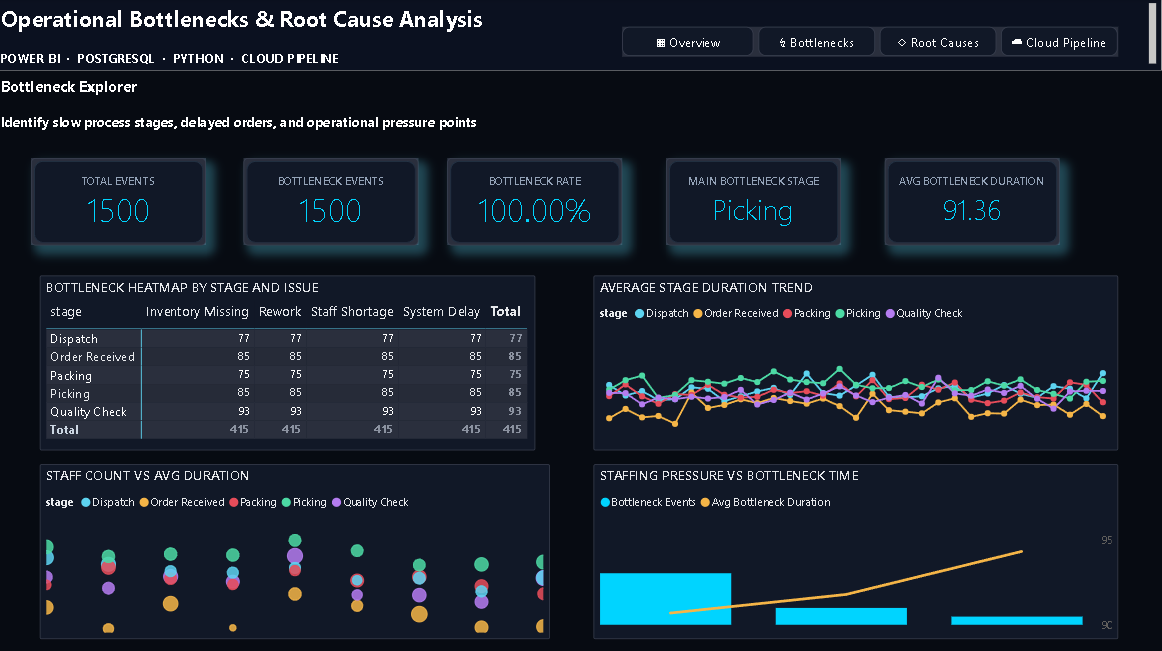

The dashboard page shown, as its layout file describes it:
{"tool":"powerbi","page":{"name":"↯ Bottleneck Explorer","canvas":[1280,720],"ordinal":1},"visuals":[{"type":"textbox","box":[0,0,1280,80],"z":0,"group":"g1"},{"type":"actionButton","box":[720,32,112,32],"z":0},{"type":"actionButton","box":[848,32,112,32],"z":1000},{"type":"textbox","box":[0,80,1280,80],"z":1000,"group":"g1"},{"type":"actionButton","box":[688,32,144,32],"z":2000,"group":"g9"},{"type":"actionButton","box":[976,32,112,32],"z":2000},{"type":"actionButton","box":[837.3,32,128,32],"z":3000,"group":"g9"},{"type":"actionButton","box":[1104,32,112,32],"z":3000},{"type":"group","id":"g1","title":"Group 1","box":[0,0,1280,160],"z":4000},{"type":"actionButton","box":[1104,32,128,32],"z":4000,"group":"g9"},{"type":"actionButton","box":[970.7,32,128,32],"z":5000,"group":"g9"},{"type":"group","id":"g2","title":"Group 1","box":[38.8,176,192,96],"z":5000},{"type":"group","id":"g3","title":"Group 2","box":[736,176,192,96],"z":6000},{"type":"shape","box":[38.8,176,192,96],"z":7000,"group":"g11"},{"type":"shape","box":[272,176,192,96],"z":7000,"group":"g5"},{"type":"group","id":"g4","title":"Group 2","box":[496,176,192,96],"z":7000},{"type":"shape","box":[496,176,192,96],"z":7000,"group":"g4"},{"type":"shape","box":[736,176,192,96],"z":7000,"group":"g8"},{"type":"shape","box":[976,176,192,96],"z":7000,"group":"g7"},{"type":"card","title":"TOTAL EVENTS","fields":{"Values":["_Measures.Total Order Events"]},"box":[38.8,192,192,64],"z":7005,"group":"g11"},{"type":"card","title":"BOTTLENECK EVENTS","fields":{"Values":["_Measures.Bottleneck Events"]},"box":[272,192,192,64],"z":7005,"group":"g5"},{"type":"card","title":"BOTTLENECK RATE","fields":{"Values":["_Measures.Bottleneck Rate"]},"box":[496,192,192,64],"z":7005,"group":"g4"},{"type":"card","title":"MAIN BOTTLENECK STAGE","fields":{"Values":["_Measures.Main Bottleneck Stage"]},"box":[736,192,192,64],"z":7005,"group":"g8"},{"type":"card","title":"AVG BOTTLENECK DURATION","fields":{"Values":["_Measures.Avg Bottleneck Duration"]},"box":[976,192,192,64],"z":7005,"group":"g7"},{"type":"group","id":"g5","title":"Group 2","box":[272,176,192,96],"z":8000},{"type":"pivotTable","title":"BOTTLENECK HEATMAP BY STAGE AND ISSUE","fields":{"Rows":["order_events.stage"],"Columns":["order_events.issue_type"],"Values":["order_events.Issue Event Count"]},"box":[48,304,544,192],"z":9000},{"type":"group","id":"g6","title":"Group 2","box":[38.8,176,192,96],"z":9001,"group":"g10"},{"type":"lineChart","title":"AVERAGE STAGE DURATION TREND","fields":{"Category":["Date Table.Date"],"Y":["_Measures.Avg Stage Duration"],"Series":["order_events.stage"]},"box":[656,304,576,192],"z":10000},{"type":"scatterChart","title":"STAFF COUNT VS AVG DURATION","fields":{"X":["orders.staff_count"],"Y":["_Measures.Avg Stage Duration"],"Series":["order_events.stage"],"Size":["order_events.Issue Event Count"]},"box":[48,512,560,192],"z":11000},{"type":"group","id":"g7","title":"Group 4","box":[976,176,192,96],"z":12000},{"type":"group","id":"g8","title":"Group 4","box":[736,176,192,96],"z":12004,"group":"g3"},{"type":"lineClusteredColumnComboChart","title":"STAFFING PRESSURE VS BOTTLENECK TIME","fields":{"Category":["orders.Staff Count Group"],"Y":["_Measures.Bottleneck Events"],"Y2":["_Measures.Avg Bottleneck Duration"]},"box":[656,512,576,192],"z":13000},{"type":"group","id":"g9","title":"Group 4","box":[688,32,544,32],"z":14000},{"type":"group","id":"g10","title":"Group 3","box":[38.8,176,192,96],"z":15001,"group":"g2"},{"type":"group","id":"g11","title":"Group 5","box":[38.8,176,192,96],"z":18001,"group":"g6"}]}

Visuals, with their boxes in screenshot pixels (x1, y1, x2, y2), scaled from the page's 1280x720 canvas onto the 1162x651 screenshot:
textbox: <bbox>0, 0, 1161, 72</bbox>
actionButton: <bbox>654, 29, 755, 58</bbox>
actionButton: <bbox>770, 29, 872, 58</bbox>
textbox: <bbox>0, 72, 1161, 145</bbox>
actionButton: <bbox>625, 29, 755, 58</bbox>
actionButton: <bbox>886, 29, 988, 58</bbox>
actionButton: <bbox>760, 29, 876, 58</bbox>
actionButton: <bbox>1002, 29, 1104, 58</bbox>
"Group 1" group: <bbox>0, 0, 1161, 145</bbox>
actionButton: <bbox>1002, 29, 1118, 58</bbox>
actionButton: <bbox>881, 29, 997, 58</bbox>
"Group 1" group: <bbox>35, 159, 210, 246</bbox>
"Group 2" group: <bbox>668, 159, 842, 246</bbox>
shape: <bbox>35, 159, 210, 246</bbox>
shape: <bbox>247, 159, 421, 246</bbox>
"Group 2" group: <bbox>450, 159, 625, 246</bbox>
shape: <bbox>450, 159, 625, 246</bbox>
shape: <bbox>668, 159, 842, 246</bbox>
shape: <bbox>886, 159, 1060, 246</bbox>
"TOTAL EVENTS" card: <bbox>35, 174, 210, 231</bbox>
"BOTTLENECK EVENTS" card: <bbox>247, 174, 421, 231</bbox>
"BOTTLENECK RATE" card: <bbox>450, 174, 625, 231</bbox>
"MAIN BOTTLENECK STAGE" card: <bbox>668, 174, 842, 231</bbox>
"AVG BOTTLENECK DURATION" card: <bbox>886, 174, 1060, 231</bbox>
"Group 2" group: <bbox>247, 159, 421, 246</bbox>
"BOTTLENECK HEATMAP BY STAGE AND ISSUE" pivotTable: <bbox>44, 275, 537, 448</bbox>
"Group 2" group: <bbox>35, 159, 210, 246</bbox>
"AVERAGE STAGE DURATION TREND" lineChart: <bbox>596, 275, 1118, 448</bbox>
"STAFF COUNT VS AVG DURATION" scatterChart: <bbox>44, 463, 552, 637</bbox>
"Group 4" group: <bbox>886, 159, 1060, 246</bbox>
"Group 4" group: <bbox>668, 159, 842, 246</bbox>
"STAFFING PRESSURE VS BOTTLENECK TIME" lineClusteredColumnComboChart: <bbox>596, 463, 1118, 637</bbox>
"Group 4" group: <bbox>625, 29, 1118, 58</bbox>
"Group 3" group: <bbox>35, 159, 210, 246</bbox>
"Group 5" group: <bbox>35, 159, 210, 246</bbox>
